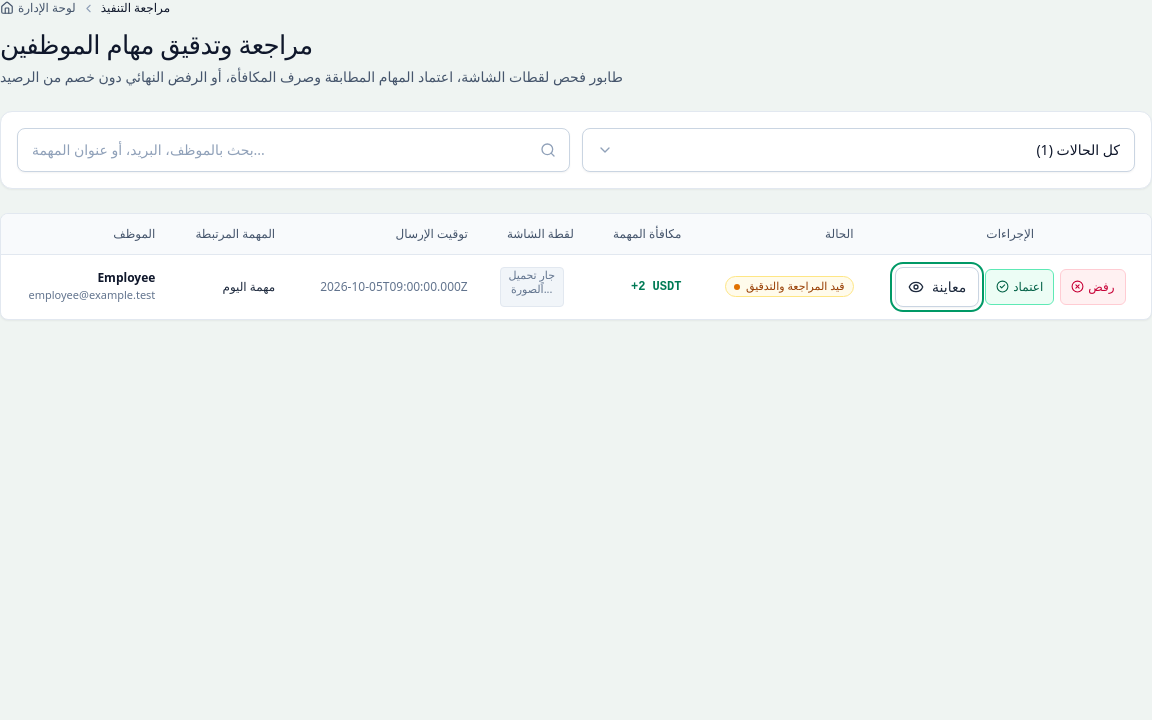
Test: restores focus and background when the existing review popup closes with Escape
Click the button "معاينة": (937, 287) [895, 267, 979, 307]
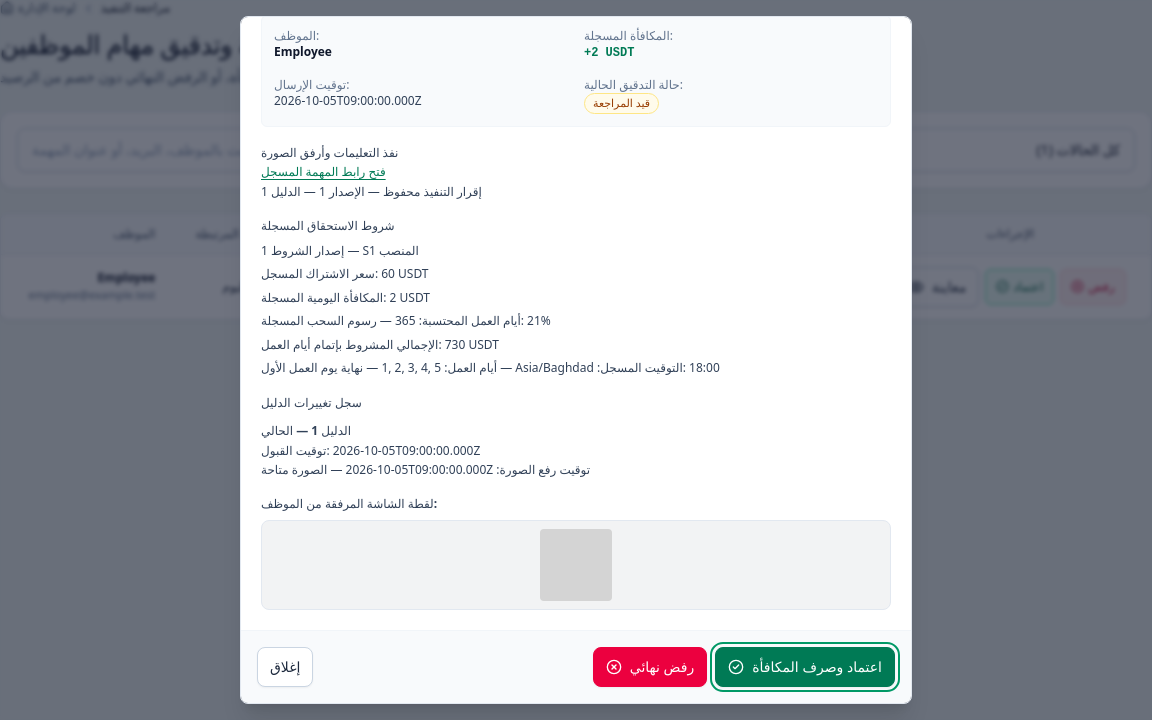
expect the button "اعتماد وصرف المكافأة" is enabled: met, box [715, 647, 895, 687]
Press Tab
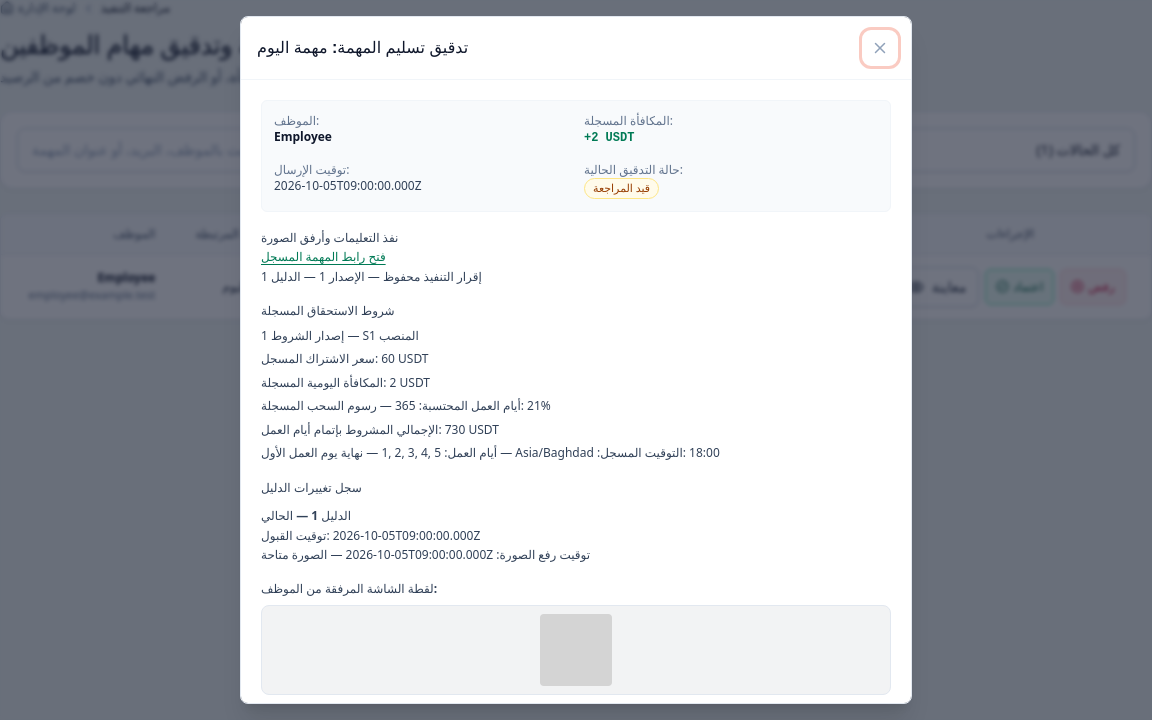
Press Tab
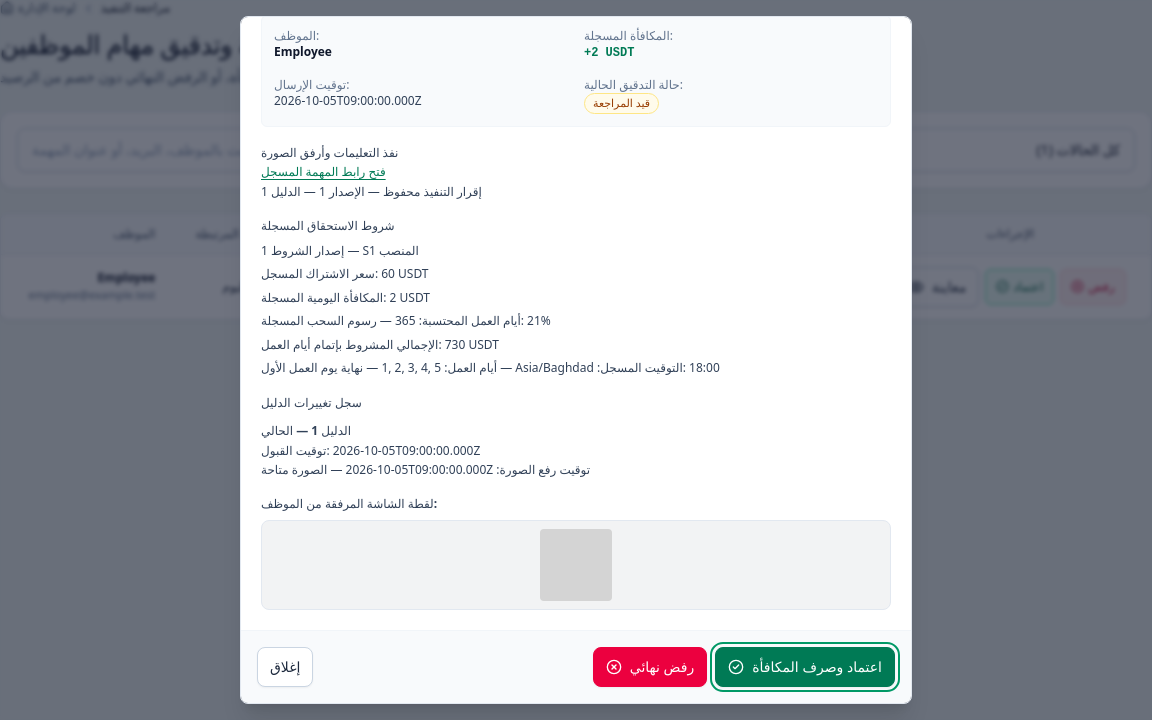
Press Escape
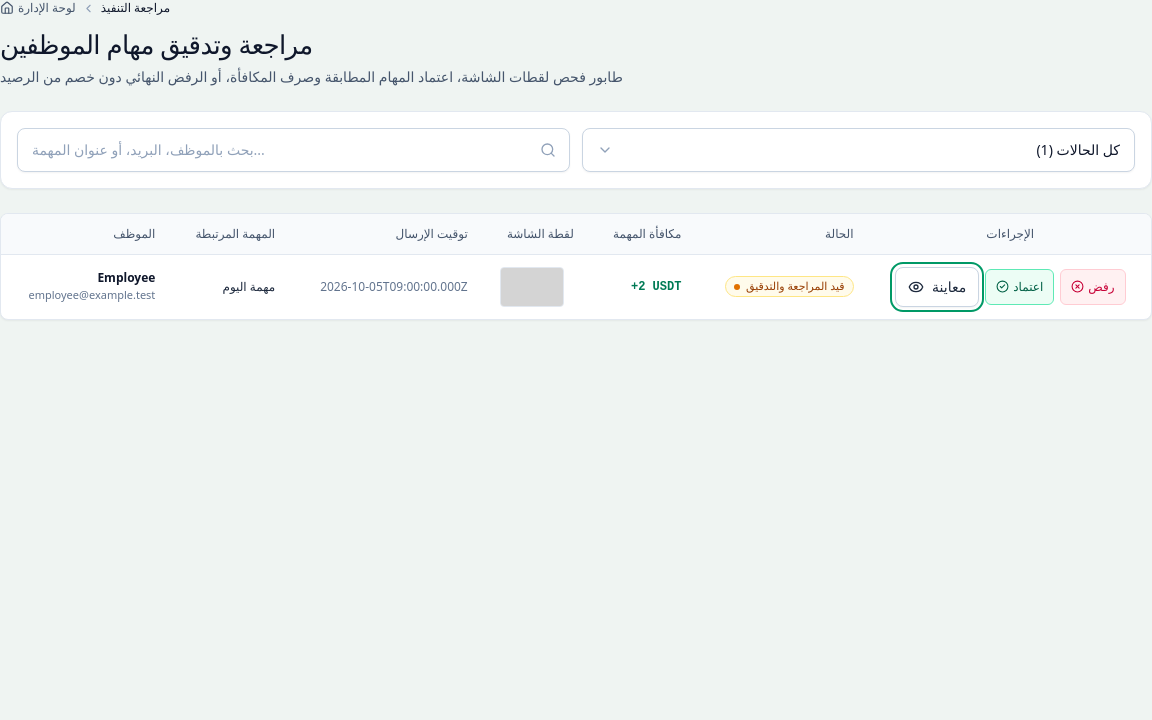
expect the dialog is gone: met
